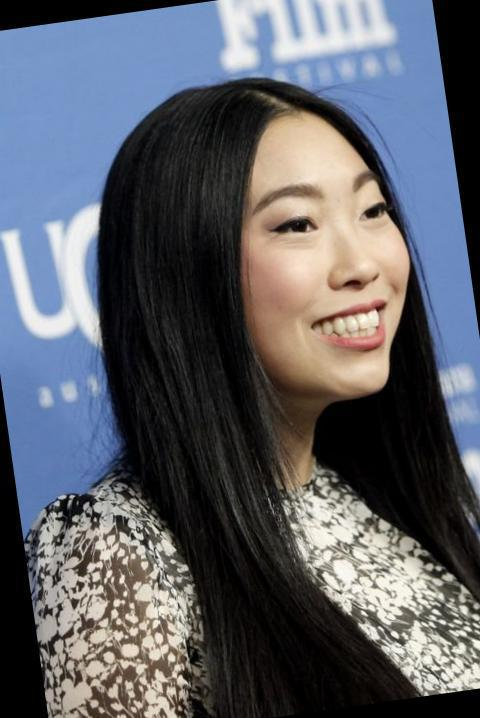Sober: (229, 117, 415, 398)
